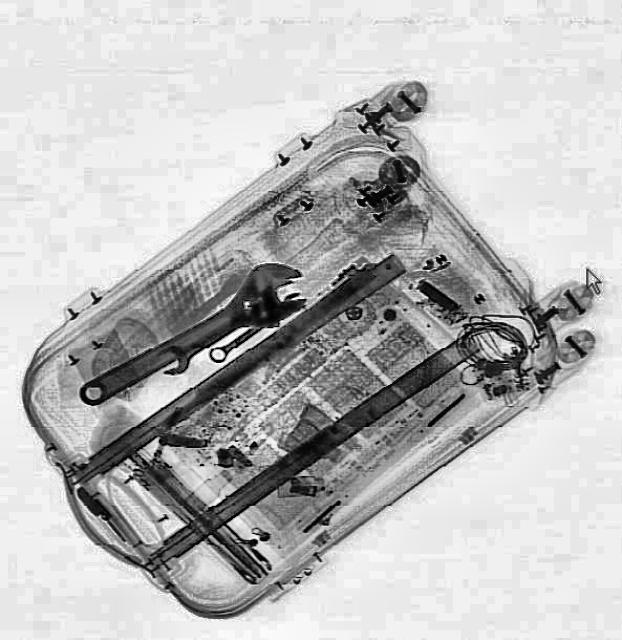Wrench: (61, 246, 320, 428), (204, 286, 308, 364), (150, 304, 252, 378)
